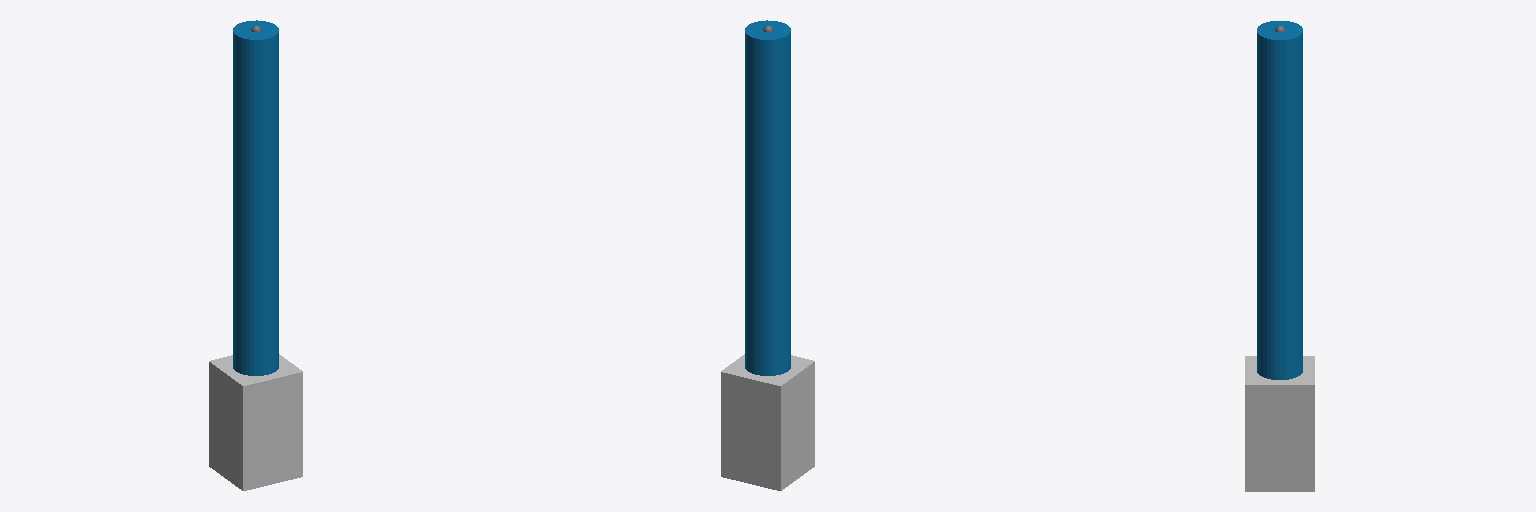
The robot description file, URDF, robot "obstacle":
<?xml version="1.0" ?>

<robot name="obstacle">

  <link name="base_link">
    <inertial>
      <origin rpy="0 0 0" xyz="0 0 0"/>
      <mass value="0"/>
      <inertia ixx="0" ixy="0.0" ixz="0.0" iyy="0" iyz="0.0" izz="0"/>
    </inertial>

    <visual>
      <origin rpy="0 0 0" xyz="0 0 0"/>
      <geometry>
        <sphere radius=".01" />
      </geometry> 
      <material name="grey">
        <color rgba=".5 .5 .5 1"/>
      </material>
    </visual>
  </link> 

  <link name="cylinder_link">
    <inertial>
      <origin rpy="0 0 0" xyz="0 0 0"/>
      <mass value="0"/>
      <inertia ixx="1" ixy="0.0" ixz="0.0" iyy="1" iyz="0.0" izz="1"/>
    </inertial>

    <visual>
      <origin rpy="0 0 0" xyz="0 0 0"/>
      <geometry>
        <cylinder length="0.8" radius="0.05" />
      </geometry> 
      <material name="kindablue">
        <color rgba=".1 .5 .7 1"/>
      </material> 
    </visual>

    <collision>
      <origin rpy="0 0 0" xyz="0 0 0"/>
      <geometry>
        <cylinder length="0.8" radius="0.05" />
      </geometry>
    </collision>  
  </link>

  <link name="box_link"> 
    <inertial>
      <origin rpy="0 0 0" xyz="0 0 0"/>
      <mass value="0"/>
      <inertia ixx="0" ixy="0.0" ixz="0.0" iyy="0" iyz="0.0" izz="0"/>
    </inertial>

    <visual>
      <origin rpy="0 0 0" xyz="0 0 0"/>
      <geometry>
        <box size=".15 .15 .25" />
      </geometry> 
      <material name="gray">
        <color rgba=".8 .8 .8 1"/>
      </material> 
    </visual>

    <collision>
      <origin rpy="0 0 0" xyz="0 0 0"/>
      <geometry>
        <box size=".15 .15 .25" />
      </geometry>
    </collision>  
  </link>

  <joint name="box_joint" type="fixed">
    <parent link="cylinder_link"/>
    <child link="box_link"/>
    <origin rpy="0 0 0" xyz="0.0 0.0 -0.525"/>
  </joint>

  <joint name="cylinder_joint" type="fixed">
    <parent link="base_link"/>
    <child link="cylinder_link"/>
    <origin rpy="0 0 0" xyz="0.0 0.0 -0.4"/>
  </joint>

</robot>

--- What the picture shows (computed from the rendered views, not written in the file) ---
The picture shows the robot from 3 angles, left to right: view 1: azimuth 30°, elevation 25°; view 2: azimuth 150°, elevation 25°; view 3: azimuth 270°, elevation 25°; orthographic projection.
Model obstacle with 3 links and 2 joints (2 fixed), rooted at base_link, posed every joint at zero.
Visible links, largest first — view 1: cylinder_link, box_link; view 2: cylinder_link, box_link; view 3: cylinder_link, box_link.
Link boxes in pixels (<box>): cylinder_link: <box>233,20,278,375</box>; box_link: <box>209,354,302,490</box>; cylinder_link: <box>745,20,790,375</box>; box_link: <box>721,354,814,490</box>; cylinder_link: <box>1257,21,1302,379</box>; box_link: <box>1245,356,1314,491</box>.
Bounding box of the posed robot: 0.15 × 0.15 × 1.06 m (x, y, z).
Geometry: primitives only (box / cylinder / sphere), no mesh files.
